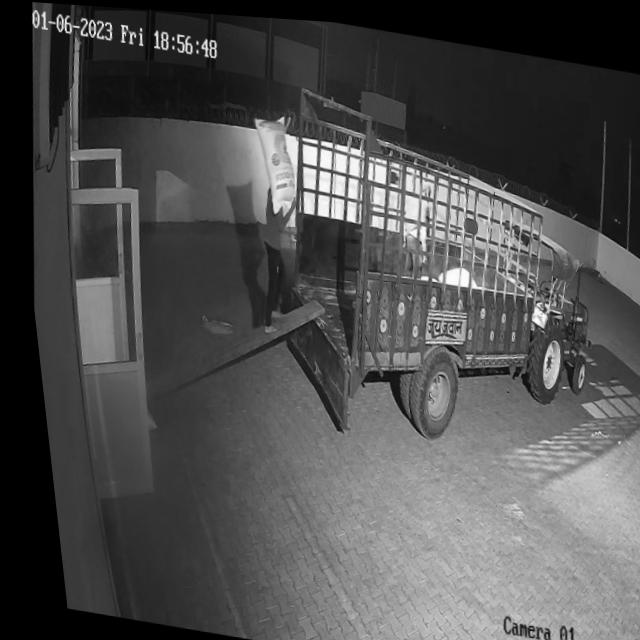sack: (240, 105, 301, 215)
